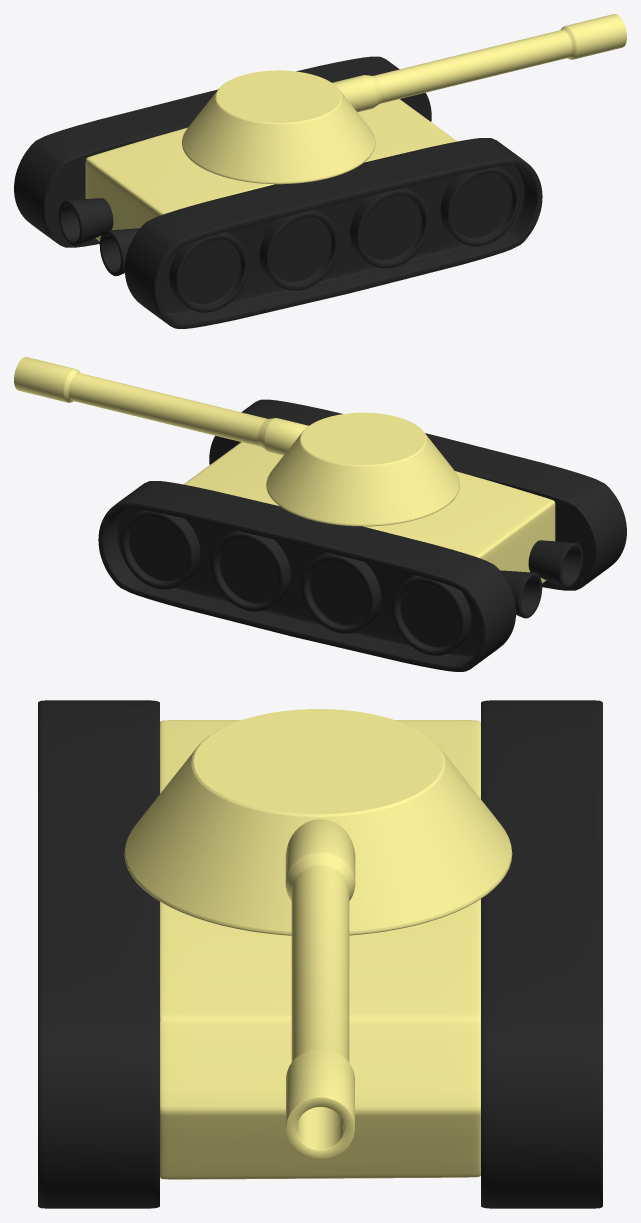
The model's file is Final_Tank.FBX.
3 renders of one model, top to bottom at view 1: azimuth 30°, elevation 25°; view 2: azimuth 150°, elevation 25°; view 3: azimuth 270°, elevation 25°, orthographic. The views are drawn at different scales.
Visible parts, largest first — view 1: Bottom, Top; view 2: Bottom, Top; view 3: Bottom, Top.
Part boxes in pixels (x1,y1,x2,y2): Bottom: (14, 56, 542, 328); Top: (182, 14, 626, 184); Bottom: (98, 399, 626, 671); Top: (14, 357, 459, 526); Bottom: (38, 700, 602, 1208); Top: (124, 709, 512, 1159).
Size of the model in its own units: 2.54 by 0.6646 by 1.16.
